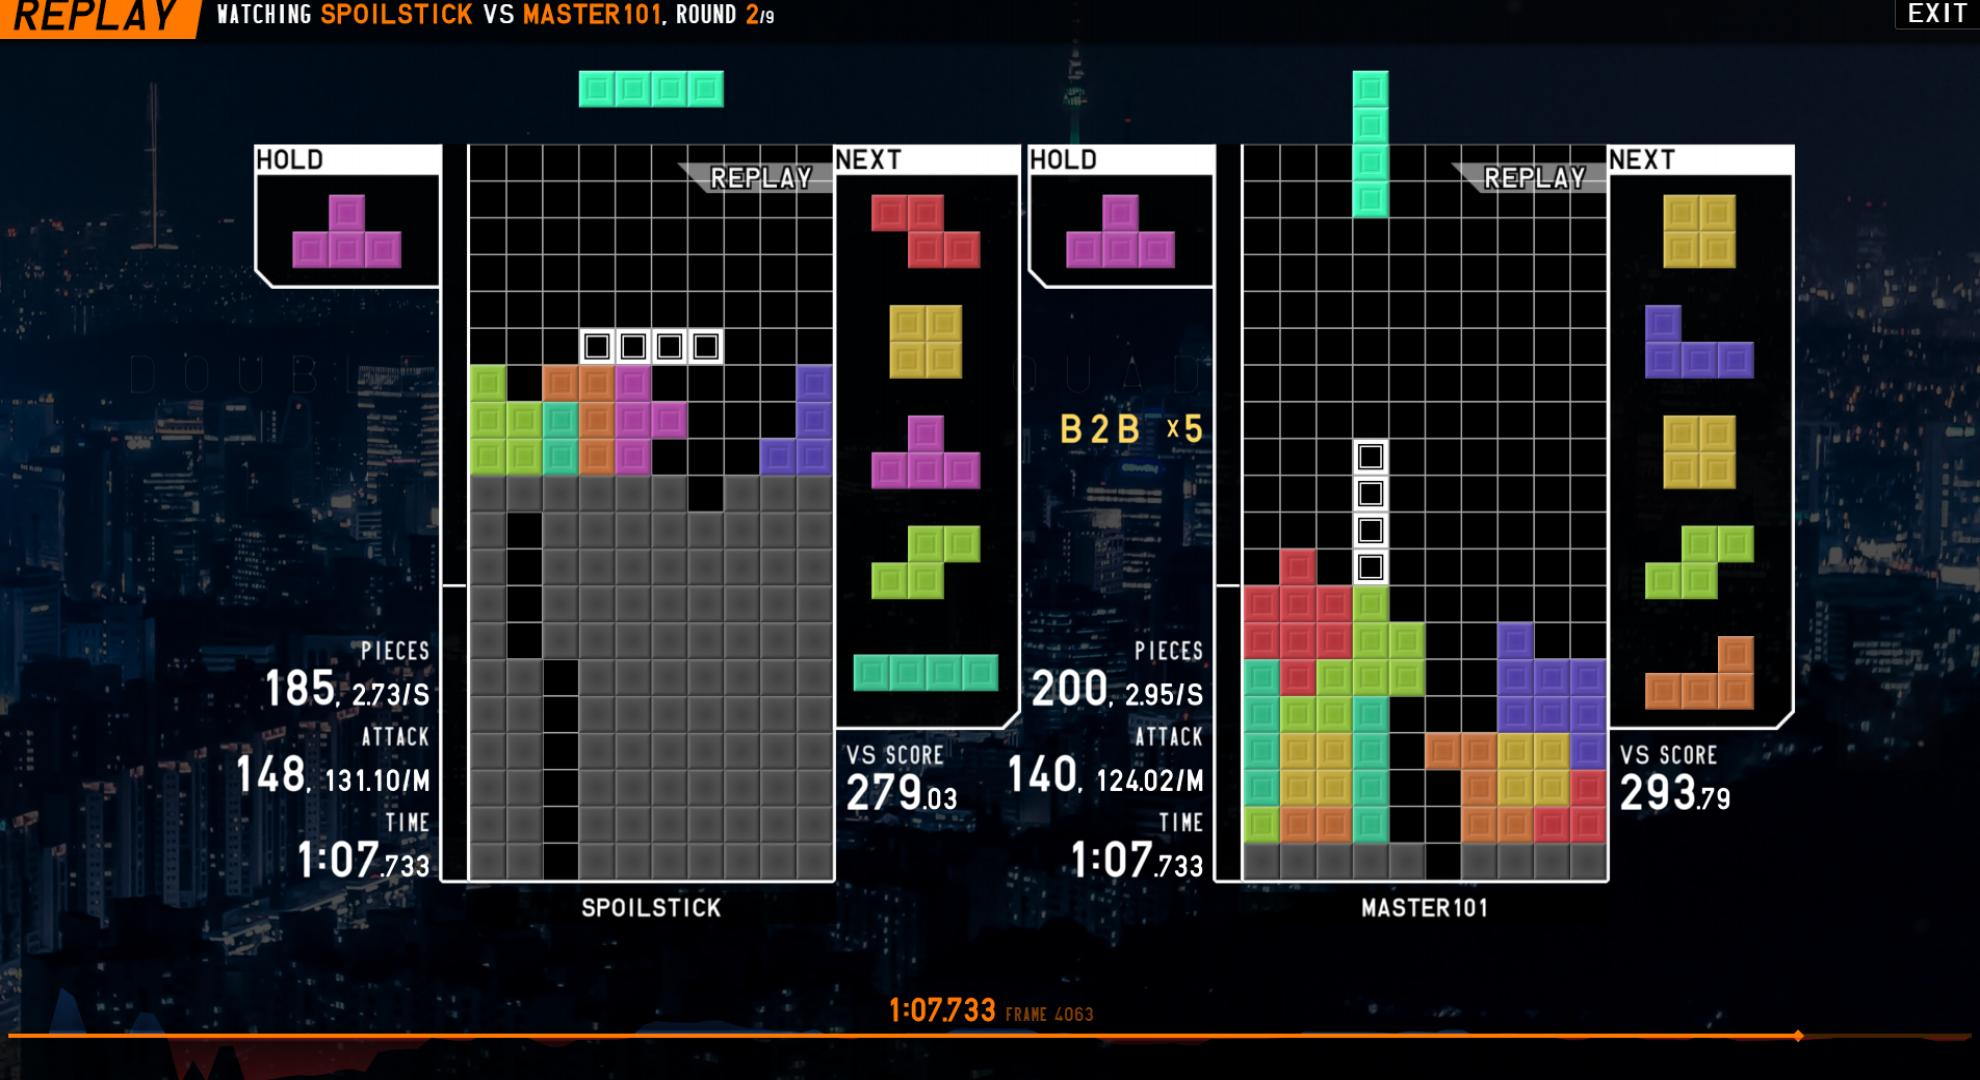tspin: (650, 399, 763, 516)
